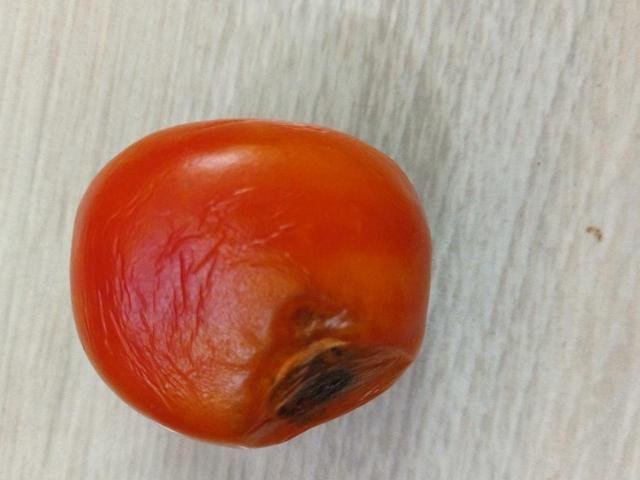defect: (66, 115, 437, 451)
